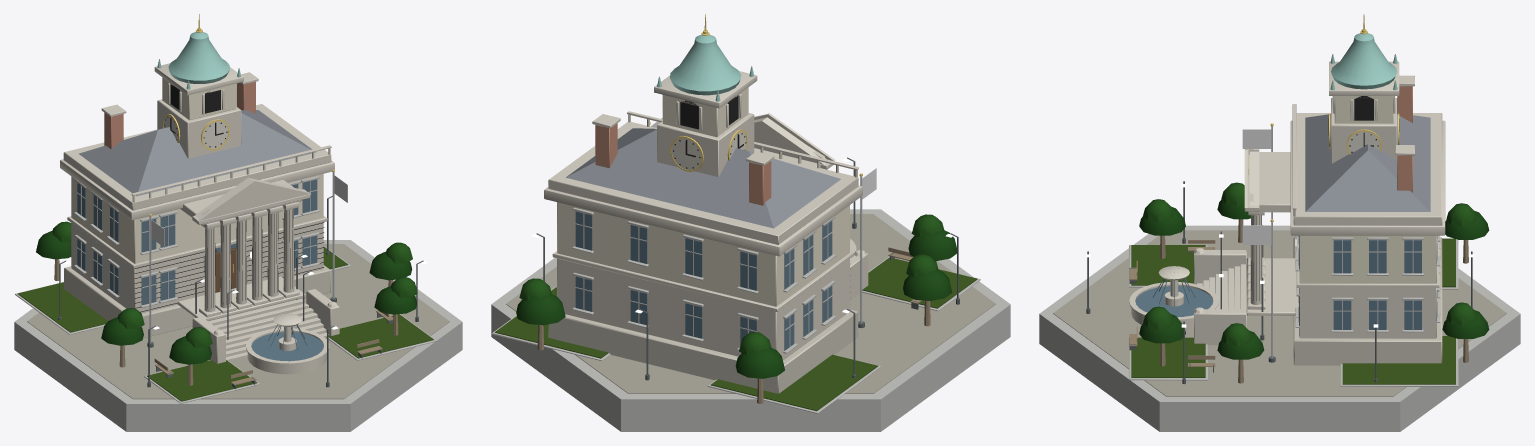
Rendered from cityHall.glb.
3 views of the same model, side by side, from view 1: azimuth 30°, elevation 25°; view 2: azimuth 150°, elevation 25°; view 3: azimuth 270°, elevation 25° (orthographic). The views are drawn at different scales.
Visible parts, largest first — view 1: stone, wall_concrete, pavers, roof_slate, turf, leaf, plaster, glass, dark, copper, wood, steel_dark (+4 smaller); view 2: stone, wall_concrete, pavers, plaster, roof_slate, leaf, turf, glass, copper, brick, steel_dark, paint (+2 smaller); view 3: stone, wall_concrete, pavers, roof_slate, turf, leaf, plaster, glass, copper, wood, banner, steel_dark (+3 smaller).
Boxes of the visible parts, left/top/right/bottom form: stone: left=60, top=63, right=339, bottom=374; wall_concrete: left=14, top=176, right=462, bottom=431; pavers: left=27, top=244, right=449, bottom=399; roof_slate: left=78, top=110, right=316, bottom=196; turf: left=17, top=246, right=433, bottom=401; leaf: left=36, top=221, right=417, bottom=364; plaster: left=71, top=77, right=323, bottom=263; glass: left=77, top=179, right=323, bottom=361; dark: left=134, top=84, right=324, bottom=312; copper: left=157, top=32, right=240, bottom=89; wood: left=54, top=248, right=398, bottom=385; steel_dark: left=58, top=196, right=423, bottom=389; stone: left=544, top=71, right=868, bottom=393; wall_concrete: left=491, top=207, right=1010, bottom=431; pavers: left=506, top=214, right=995, bottom=393; plaster: left=557, top=87, right=849, bottom=306; roof_slate: left=566, top=128, right=840, bottom=228; leaf: left=516, top=214, right=956, bottom=378; turf: left=495, top=257, right=977, bottom=411; glass: left=575, top=211, right=832, bottom=350; copper: left=657, top=34, right=753, bottom=101; brick: left=595, top=123, right=771, bottom=205; steel_dark: left=536, top=157, right=959, bottom=380; paint: left=671, top=131, right=746, bottom=170; stone: left=1129, top=61, right=1445, bottom=365; wall_concrete: left=1039, top=225, right=1520, bottom=431; pavers: left=1053, top=230, right=1506, bottom=396; roof_slate: left=1305, top=114, right=1430, bottom=211; turf: left=1131, top=238, right=1455, bottom=384; leaf: left=1139, top=182, right=1489, bottom=359; plaster: left=1299, top=96, right=1436, bottom=283; glass: left=1135, top=236, right=1436, bottom=329; copper: left=1330, top=33, right=1397, bottom=90; wood: left=1129, top=219, right=1468, bottom=383; banner: left=1242, top=129, right=1271, bottom=244; steel_dark: left=1086, top=181, right=1473, bottom=384.
Size of the model in its own units: 21.3 by 18.6 by 24.6.
